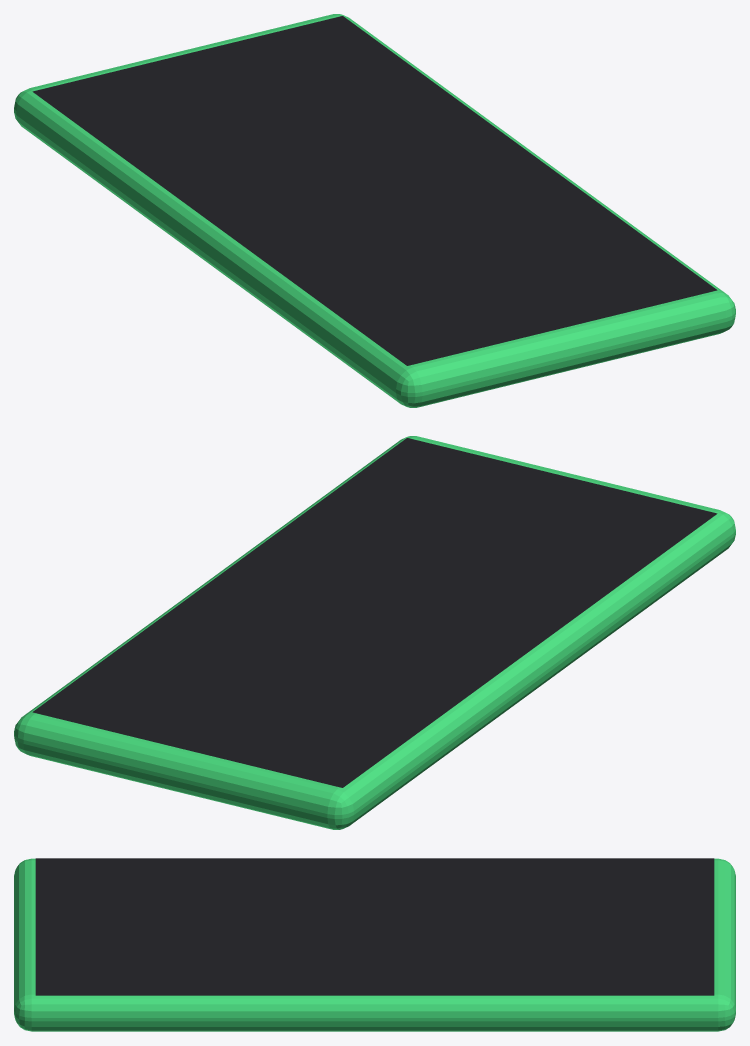
File: poco-gen-2021-mid-range-2021.glb
The picture shows the model from 3 angles, top to bottom: view 1: azimuth 30°, elevation 25°; view 2: azimuth 150°, elevation 25°; view 3: azimuth 270°, elevation 25°; orthographic projection. The views are drawn at different scales.
Visible parts, largest first — view 1: Phone_Screen, Phone_Body; view 2: Phone_Screen, Phone_Body; view 3: Phone_Screen, Phone_Body.
Boxes of the visible parts, <box> form: Phone_Screen: <box>32,16,717,365</box>; Phone_Body: <box>14,14,735,407</box>; Phone_Screen: <box>32,438,717,787</box>; Phone_Body: <box>14,436,735,829</box>; Phone_Screen: <box>35,858,714,995</box>; Phone_Body: <box>14,858,735,1031</box>.
Size of the model in its own units: 0.0767 by 0.0086 by 0.157.
